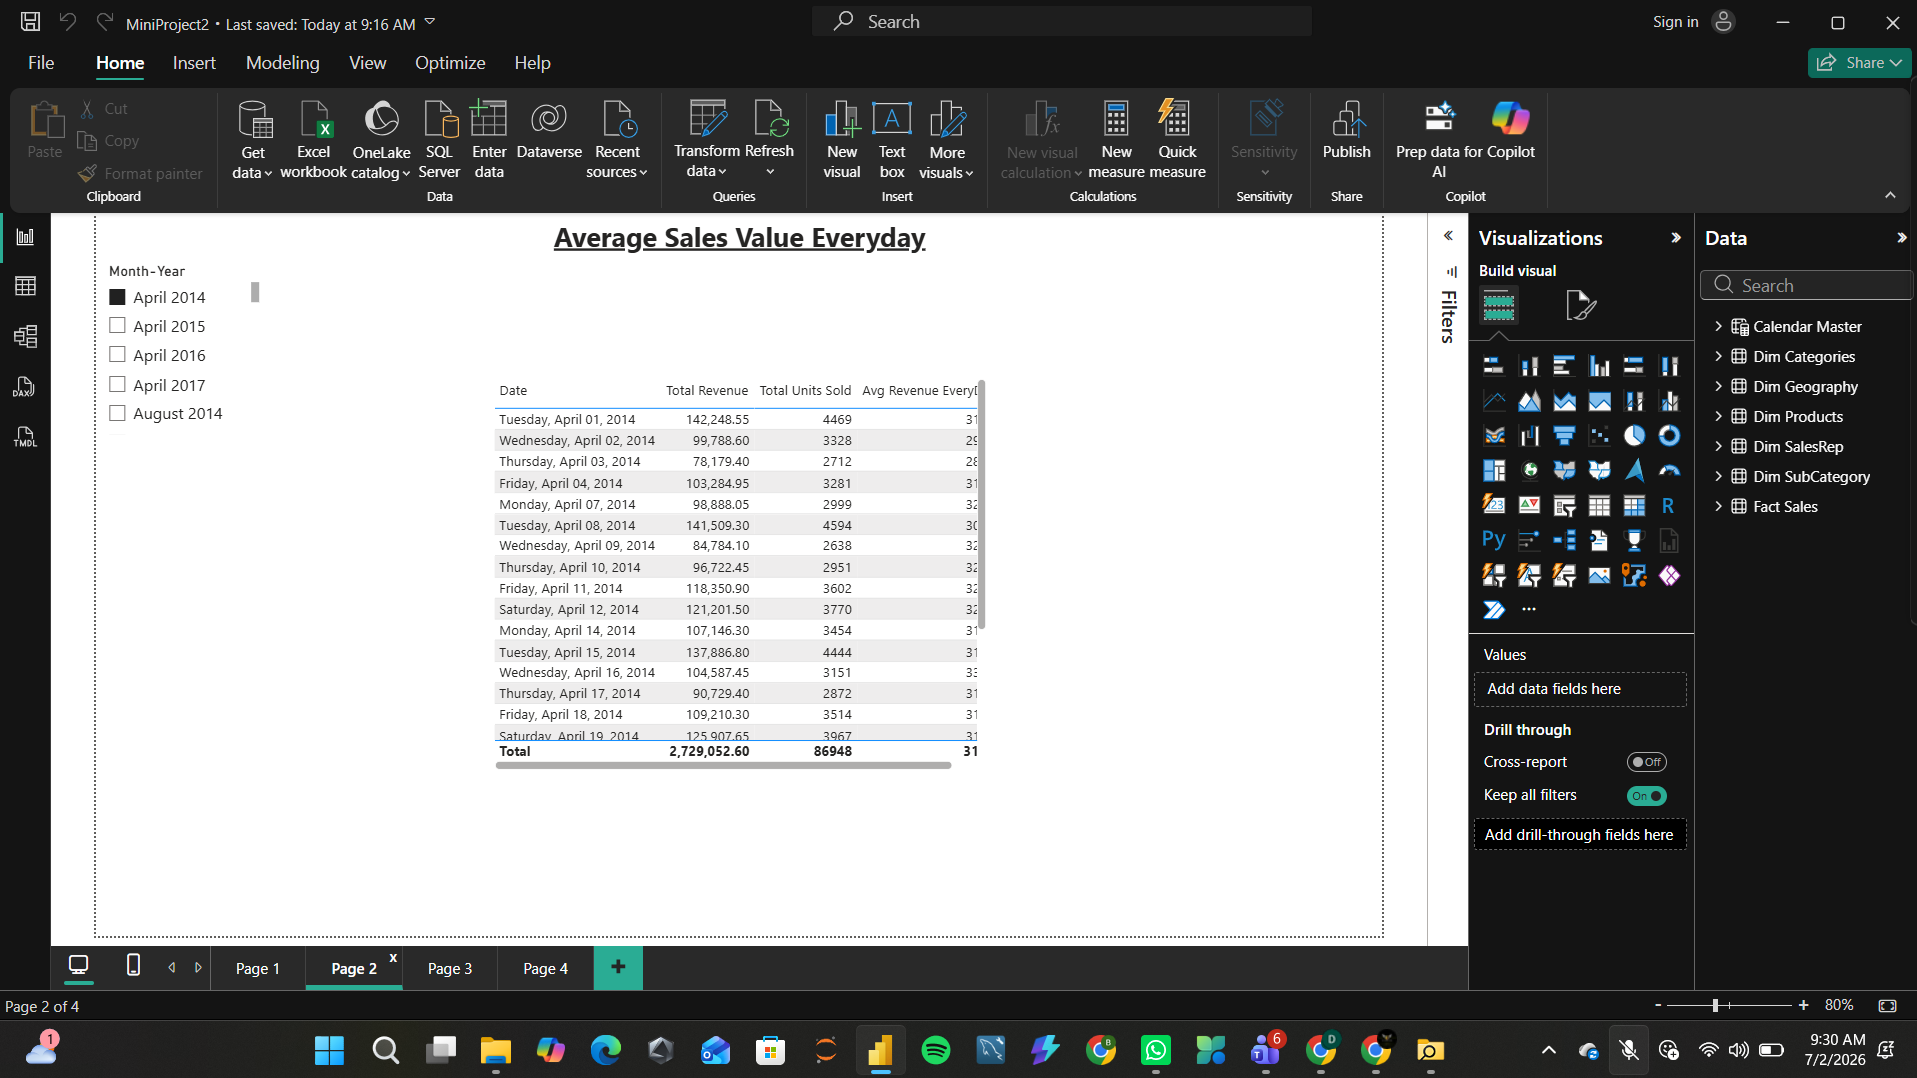

This screenshot's page, from the dashboard's own definition file:
{"tool":"powerbi","page":{"name":"Page 2","canvas":[1280,720],"ordinal":1},"visuals":[{"type":"textbox","box":[416.3,0,447.7,45.3],"z":0},{"type":"tableEx","fields":{"Values":["Calendar Master.Date","Fact Sales.Total Revenue","Fact Sales.Total Units Sold","Fact Sales.Avg Revenue EveryDay"]},"box":[390.7,160.5,500,398.8],"z":1000},{"type":"slicer","fields":{"Values":["Calendar Master.Month-Year"]},"box":[0,45.3,167.4,180.2],"z":2000}]}

Visuals, with their boxes on the page's 1280x720 design canvas (x1, y1, x2, y2). These are canvas units, not pixel positions in the 1917x1078 screenshot, which may show the page scaled, cropped or inside an application window:
textbox: [left=416, top=0, right=864, bottom=45]
tableEx - Calendar Master.Date x Fact Sales.Total Revenue: [left=391, top=160, right=891, bottom=559]
slicer - Calendar Master.Month-Year: [left=0, top=45, right=167, bottom=226]
